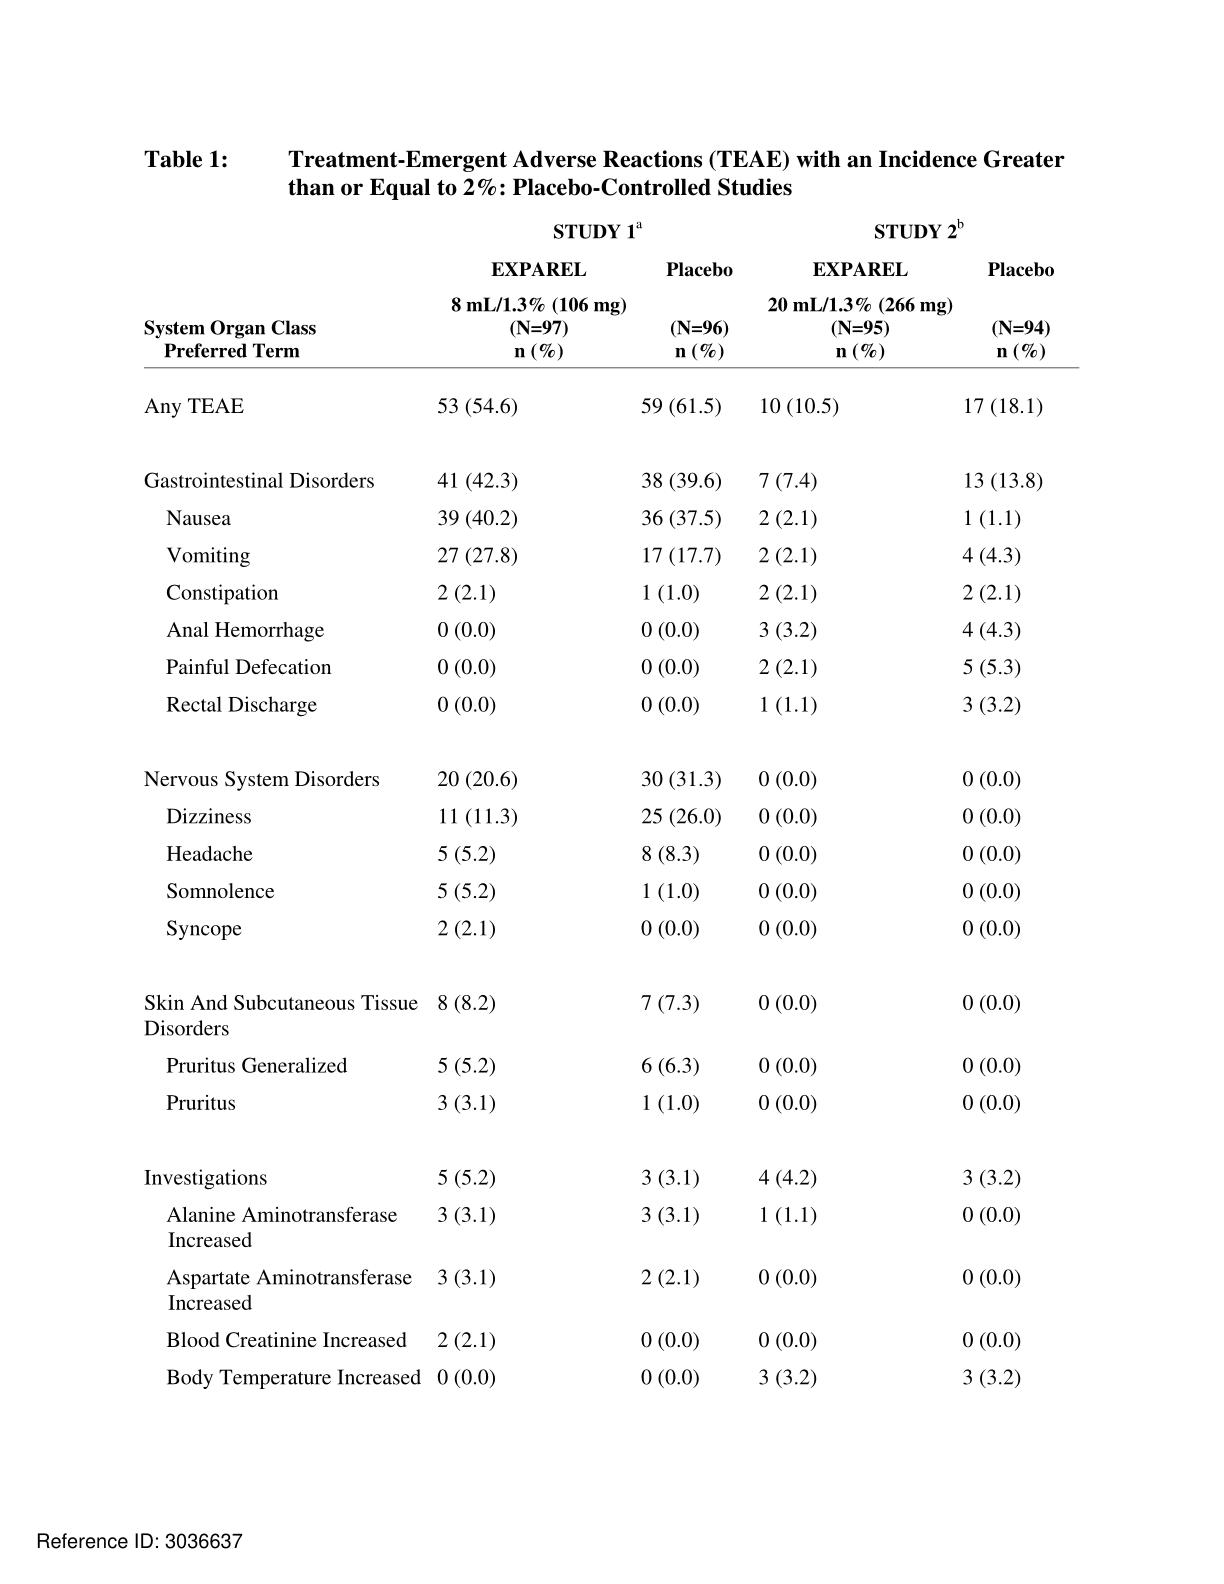partial_lined_merged_cells: (140, 216, 1084, 1395)
